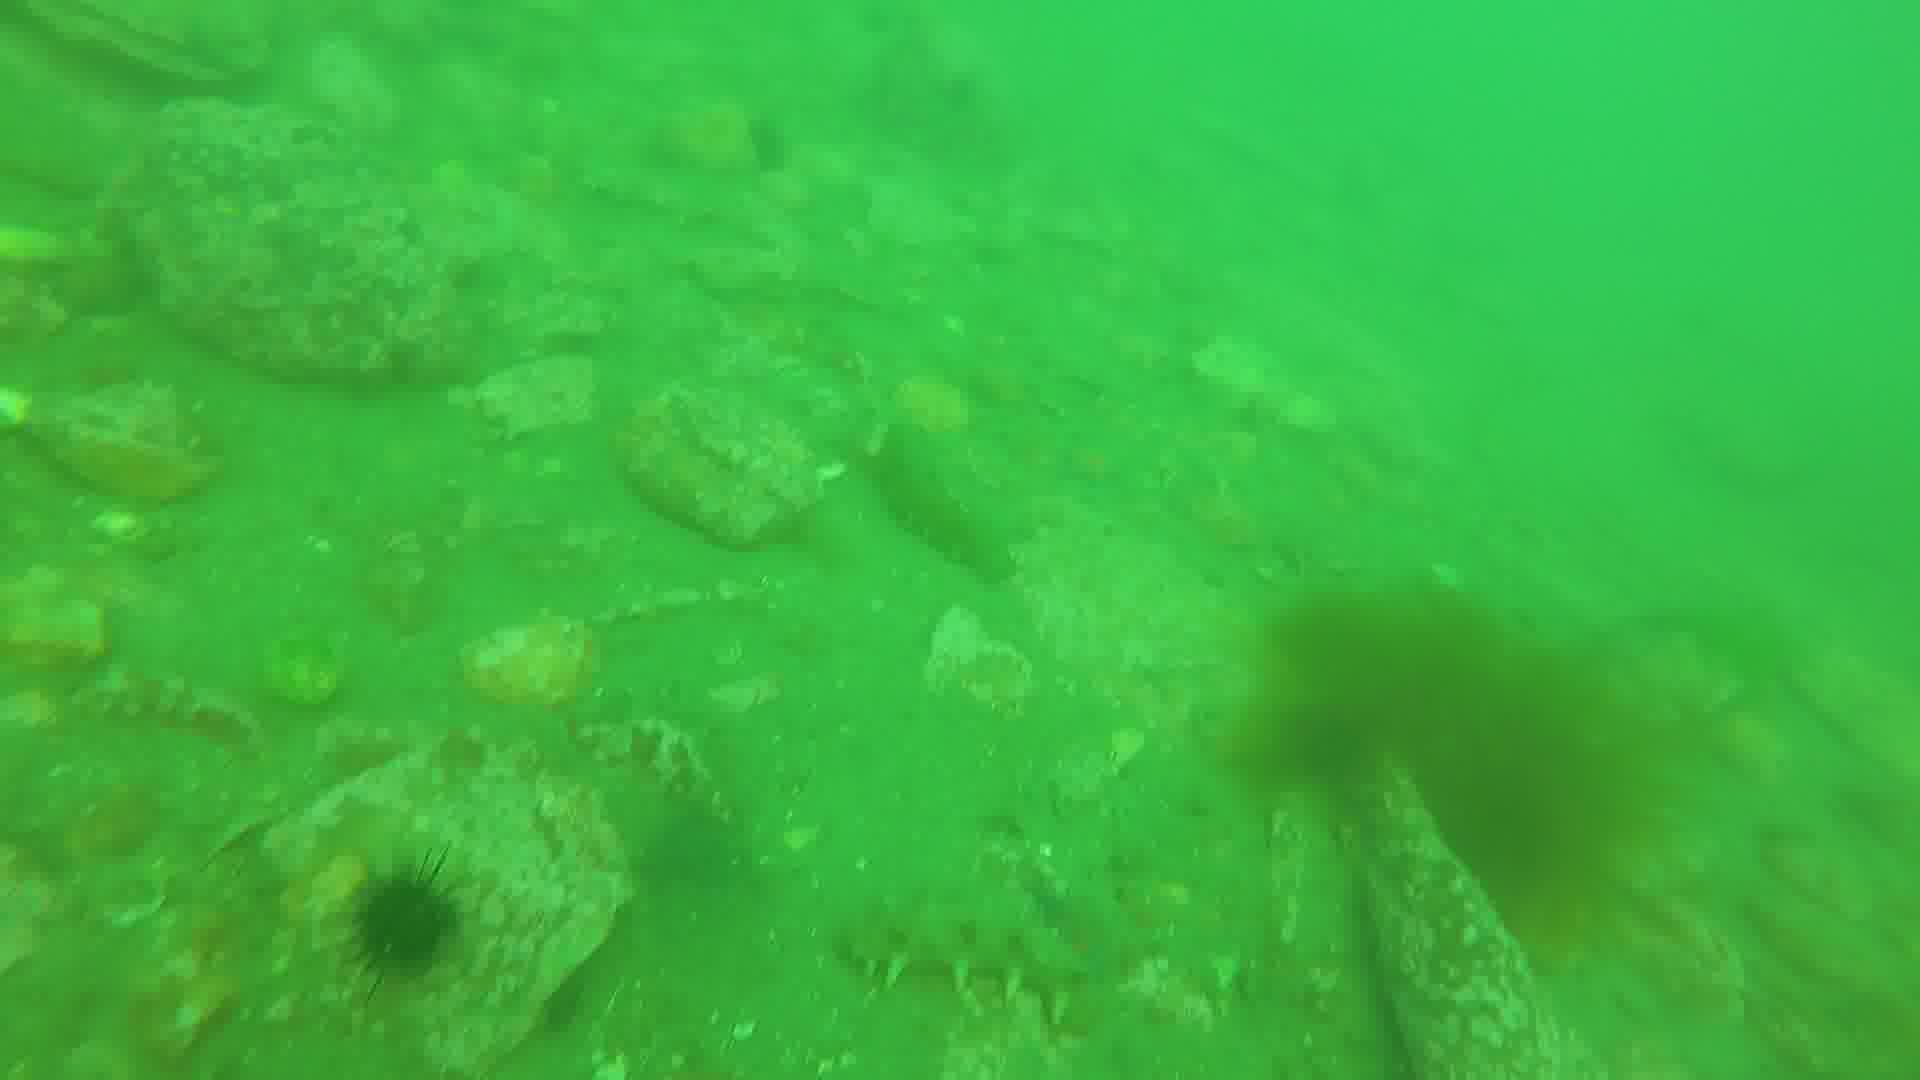echinus: (352, 870, 458, 971), (731, 127, 793, 193)
holothurian: (849, 886, 1087, 1004), (868, 413, 997, 582)
